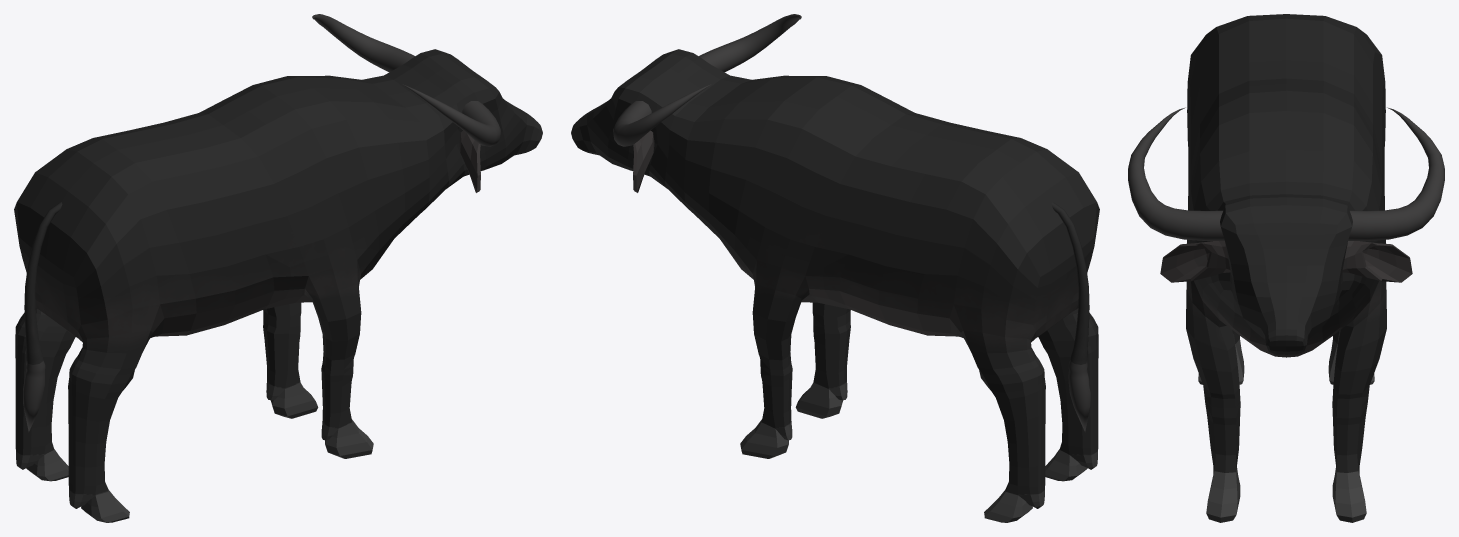
The model's file is Carabao.glb.
3 renders of one model, left to right at view 1: azimuth 30°, elevation 25°; view 2: azimuth 150°, elevation 25°; view 3: azimuth 270°, elevation 25°, orthographic. The views are drawn at different scales.
Visible parts, largest first — view 1: Cube.001; view 2: Cube.001; view 3: Cube.001.
Boxes of the visible parts, x1=… form: Cube.001: x1=14, y1=14, x2=542, y2=522; Cube.001: x1=571, y1=14, x2=1099, y2=522; Cube.001: x1=1128, y1=14, x2=1444, y2=522.
Size of the model in its own units: 2.73 by 1.91 by 1.29.
Materials: 1 (1 with a texture image).
